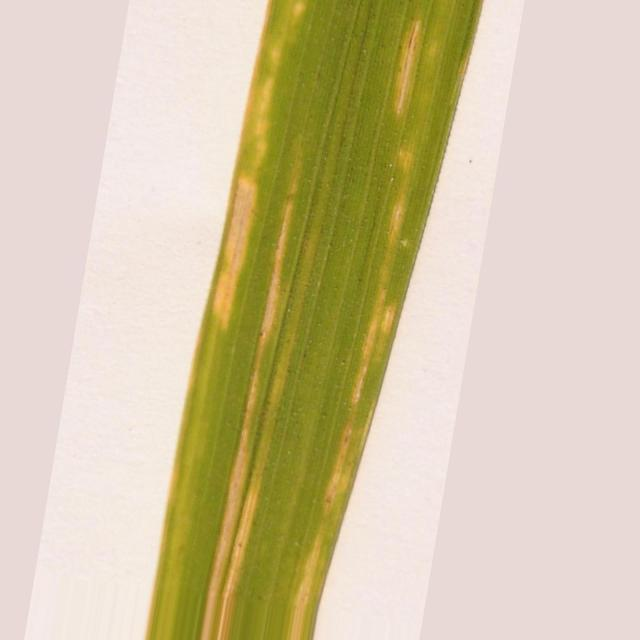Bacterial_Leaf_Blight: (201, 180, 298, 640), (286, 286, 400, 640), (210, 0, 306, 330), (212, 178, 256, 328), (394, 20, 421, 116), (388, 198, 405, 249)
